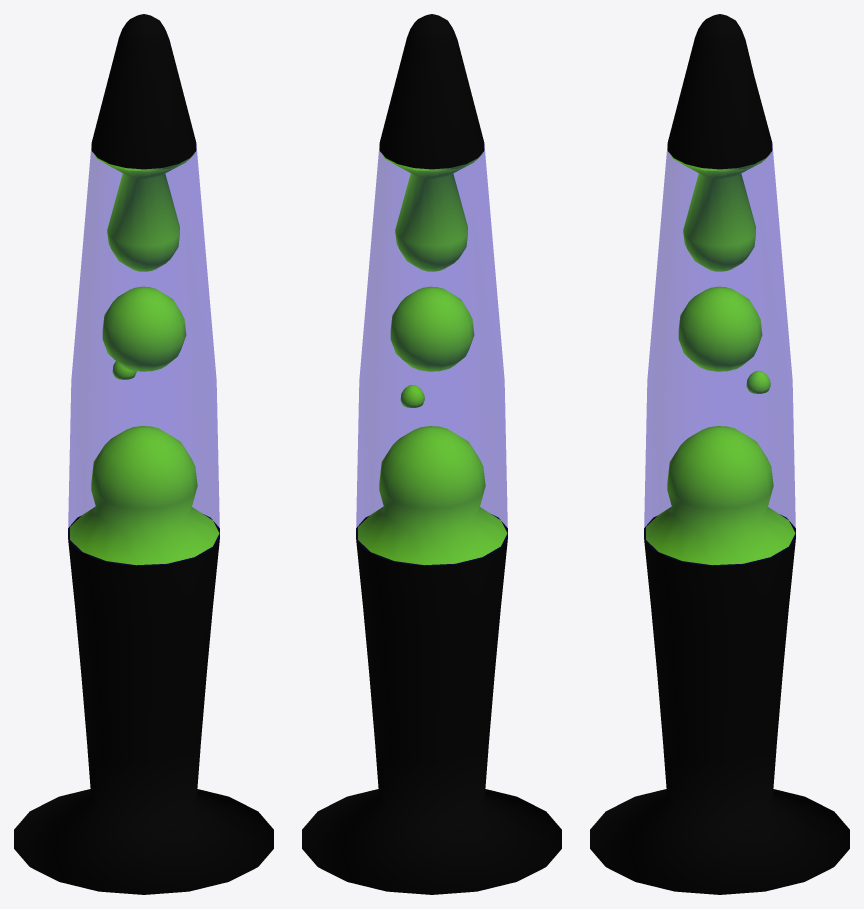
File: Lava_Lamp_Missile.FBX
3 views of the same model, side by side, from view 1: azimuth 30°, elevation 25°; view 2: azimuth 150°, elevation 25°; view 3: azimuth 270°, elevation 25° (orthographic).
Parts seen in each view (by area): view 1: Cylinder01, Sphere01, Sphere02, Sphere03; view 2: Cylinder01, Sphere01, Sphere02, Sphere03; view 3: Cylinder01, Sphere01, Sphere02, Sphere03.
Part boxes in pixels (x1,y1,x2,y2): Cylinder01: (14,14,273,894); Sphere01: (70,426,219,565); Sphere02: (95,153,194,271); Sphere03: (102,286,186,371); Cylinder01: (302,14,561,894); Sphere01: (358,426,507,565); Sphere02: (383,153,482,271); Sphere03: (390,286,474,371); Cylinder01: (590,14,849,894); Sphere01: (646,426,795,565); Sphere02: (671,153,770,271); Sphere03: (678,286,762,371).
Size of the model in its own units: 28.08 by 96.94 by 27.65.
